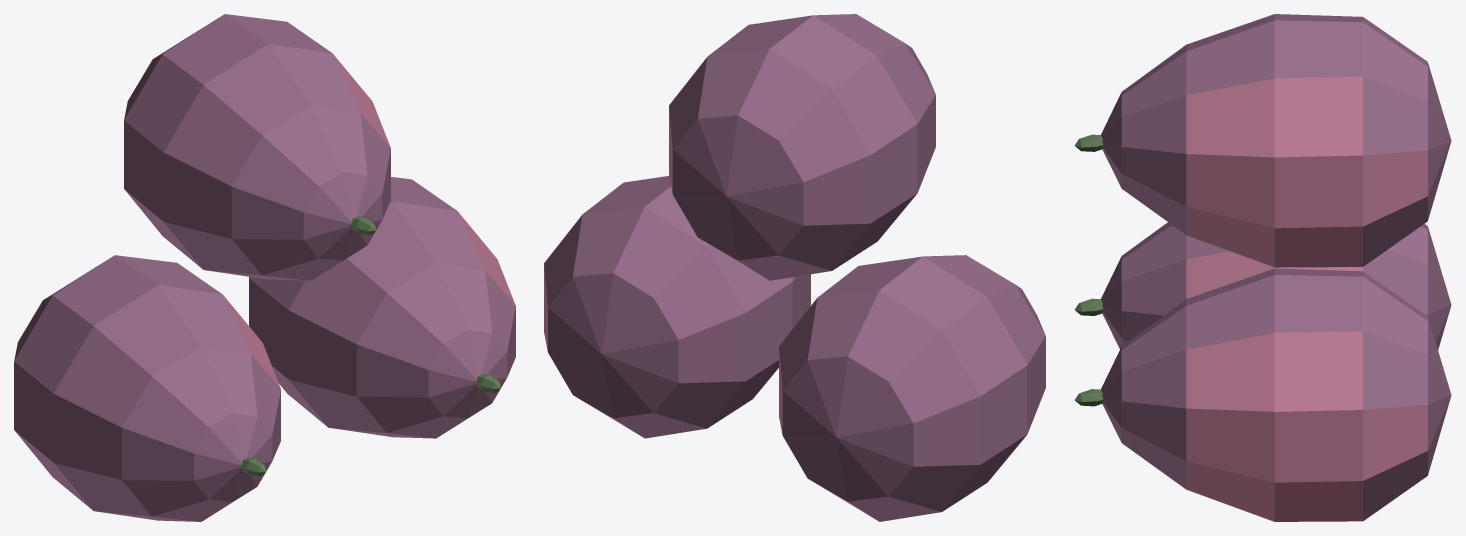
File: figs.glb
3 views of the same model, side by side, from view 1: azimuth 30°, elevation 25°; view 2: azimuth 150°, elevation 25°; view 3: azimuth 270°, elevation 25° (orthographic). The views are drawn at different scales.
Visible parts, largest first — view 1: figs; view 2: figs; view 3: figs.
Boxes of the visible parts, x1=… form: figs: x1=14, y1=14, x2=515, y2=521; figs: x1=544, y1=14, x2=1045, y2=521; figs: x1=1074, y1=14, x2=1451, y2=521.
Bounding box in the file's own units: 0.0888 × 0.0861 × 0.064.
